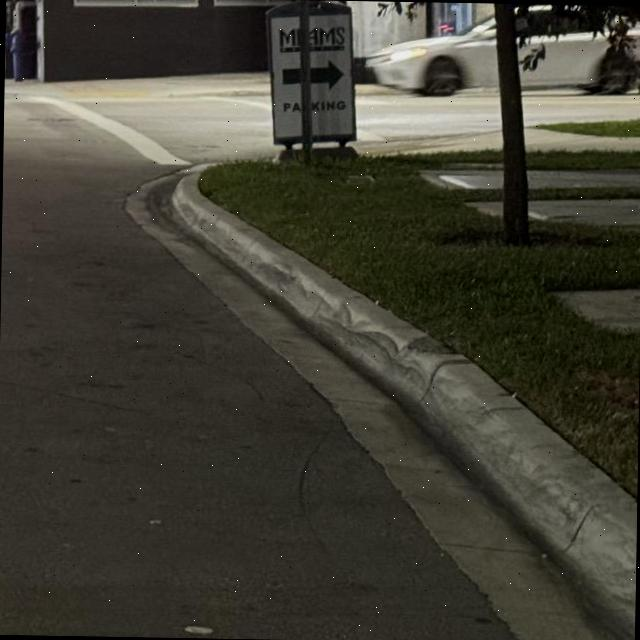curb: (171, 170, 636, 640)
